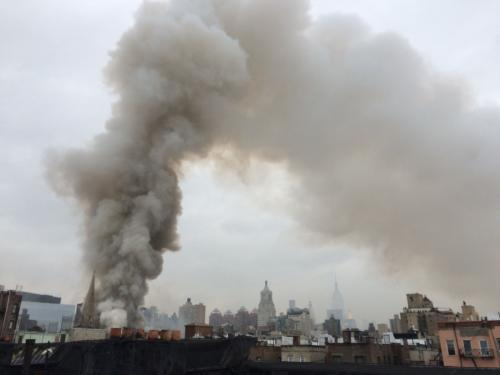smoke: (50, 8, 493, 278)
